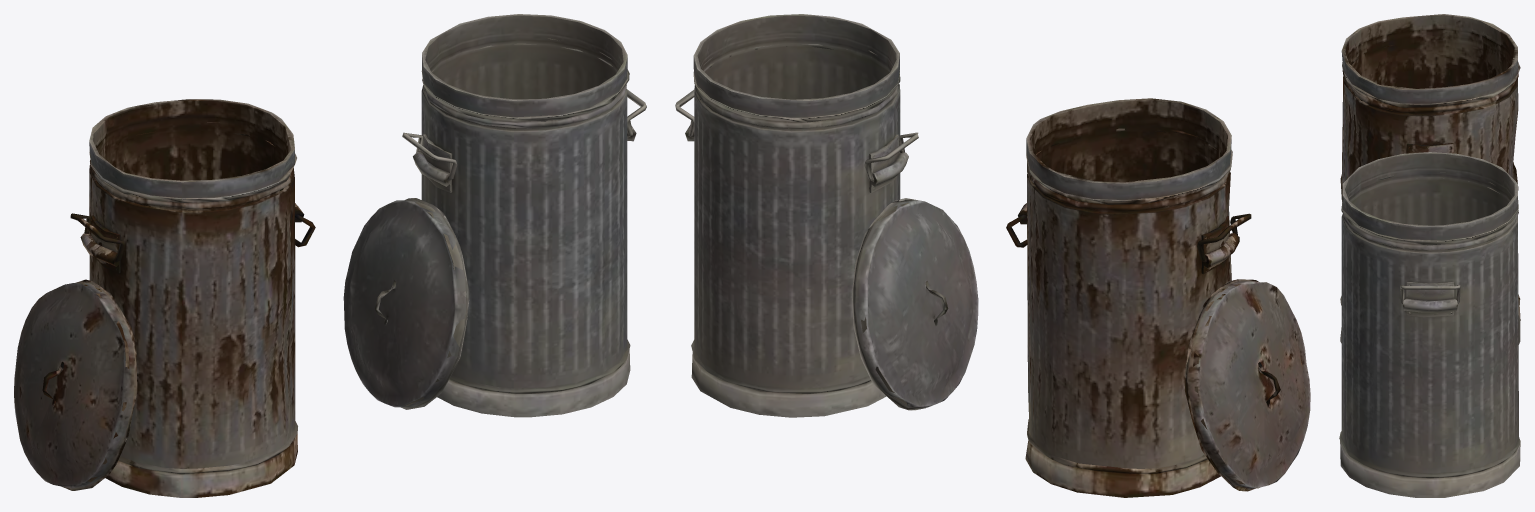
Rendered from trash_can.glb.
The picture shows the model from 3 angles, left to right: view 1: azimuth 30°, elevation 25°; view 2: azimuth 150°, elevation 25°; view 3: azimuth 270°, elevation 25°; orthographic projection. The views are drawn at different scales.
Parts seen in each view (by area): view 1: metal_trash_can, metal_trash_can_rust, metal_trash_can_lid, metal_trash_can_rust_lid; view 2: metal_trash_can, metal_trash_can_rust, metal_trash_can_lid, metal_trash_can_rust_lid; view 3: metal_trash_can, metal_trash_can_rust, metal_trash_can_handle_right.
Part boxes in pixels (left/top/right/bottom): metal_trash_can: left=413, top=14, right=636, bottom=417; metal_trash_can_rust: left=80, top=99, right=304, bottom=497; metal_trash_can_lid: left=343, top=198, right=469, bottom=409; metal_trash_can_rust_lid: left=14, top=279, right=137, bottom=490; metal_trash_can: left=685, top=14, right=908, bottom=417; metal_trash_can_rust: left=1018, top=98, right=1239, bottom=497; metal_trash_can_lid: left=852, top=198, right=978, bottom=410; metal_trash_can_rust_lid: left=1184, top=279, right=1310, bottom=491; metal_trash_can: left=1339, top=152, right=1520, bottom=497; metal_trash_can_rust: left=1340, top=14, right=1520, bottom=320; metal_trash_can_handle_right: left=1400, top=285, right=1460, bottom=303.
Size of the model in its own units: 1.78 by 0.9062 by 0.5502.
2 materials, 2 textured.
